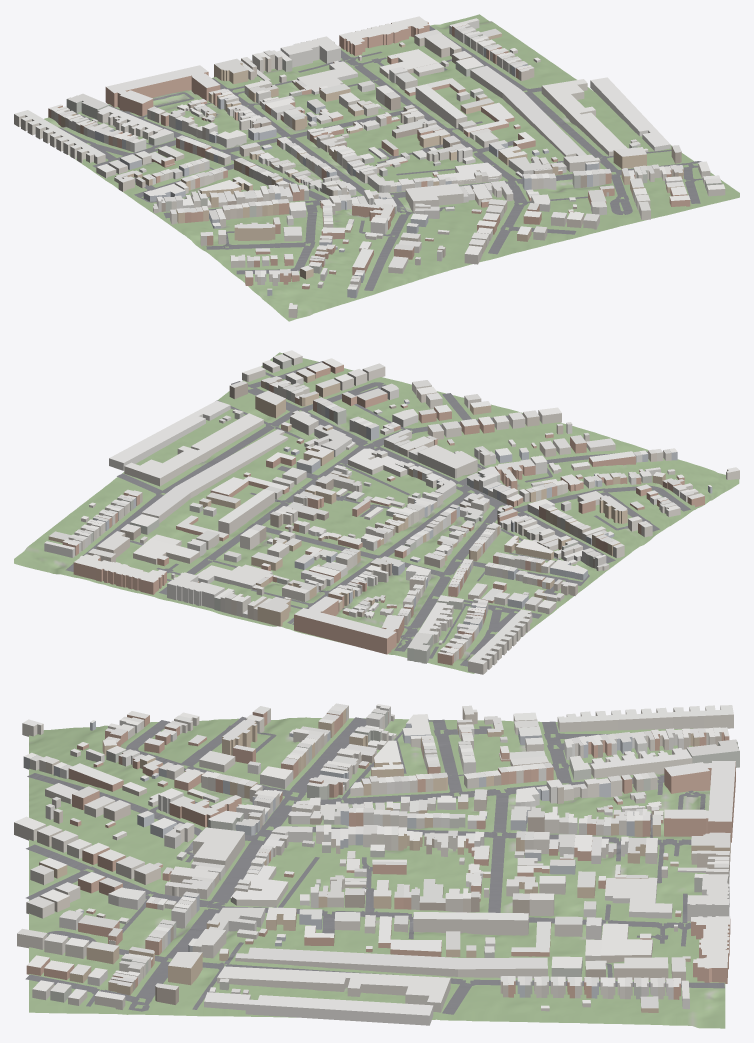
The picture shows the model from 3 angles, top to bottom: view 1: azimuth 30°, elevation 25°; view 2: azimuth 150°, elevation 25°; view 3: azimuth 270°, elevation 25°; orthographic projection. The views are drawn at different scales.
Parts seen in each view (by area): view 1: prim1, prim0, prim2; view 2: prim1, prim0, prim2; view 3: prim1, prim0, prim2.
Boxes of the visible parts, x1,y1,x2,y2 form: prim1: (14, 16, 725, 317); prim0: (44, 14, 739, 321); prim2: (49, 26, 702, 290); prim1: (44, 350, 739, 674); prim0: (14, 352, 739, 673); prim2: (65, 361, 690, 666); prim1: (14, 703, 739, 1025); prim0: (29, 717, 725, 1028); prim2: (25, 716, 724, 1014).
Size of the model in its own units: 545 by 31.72 by 534.
